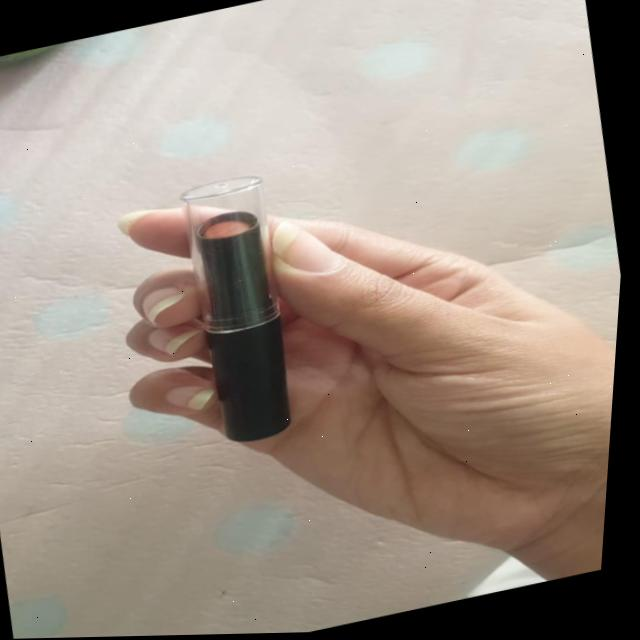lip stick: (159, 166, 326, 456)
